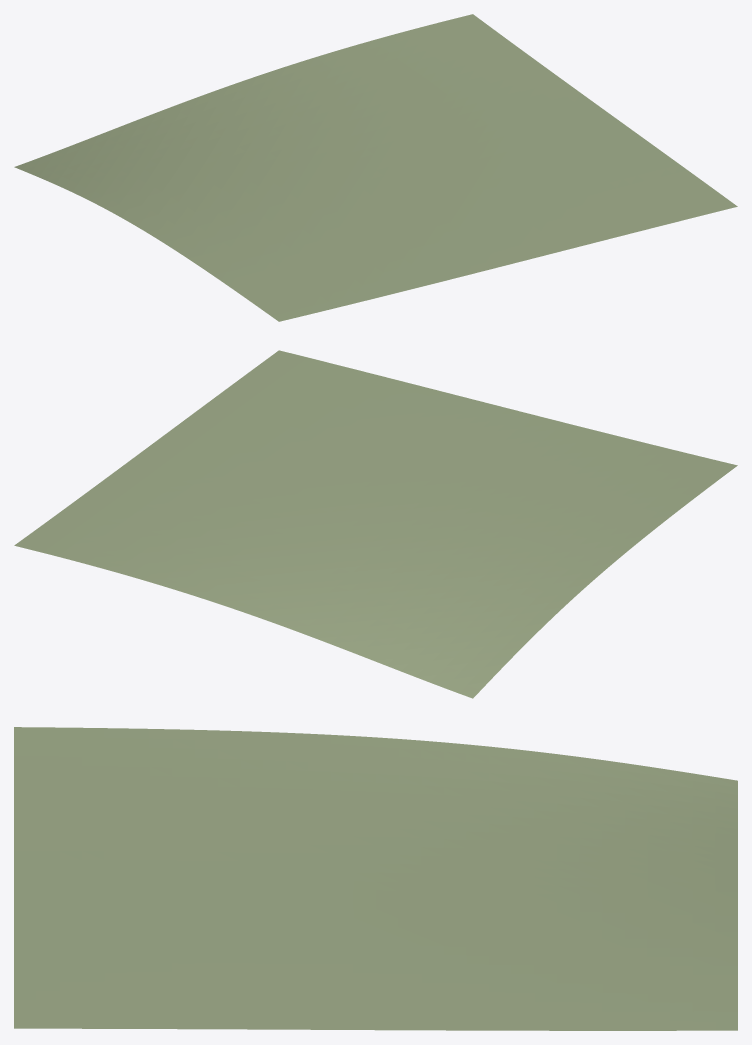
Rendered from expanse-5-31.glb.
The picture shows the model from 3 angles, top to bottom: view 1: azimuth 30°, elevation 25°; view 2: azimuth 150°, elevation 25°; view 3: azimuth 270°, elevation 25°; orthographic projection. The views are drawn at different scales.
Parts seen in each view (by area): view 1: expanse-5-31; view 2: expanse-5-31; view 3: expanse-5-31.
Boxes of the visible parts, bbox=[...] form: expanse-5-31: bbox=[14, 14, 737, 321]; expanse-5-31: bbox=[14, 350, 737, 698]; expanse-5-31: bbox=[14, 727, 737, 1030].
Bounding box in the file's own units: 256 × 22.6 × 256.
